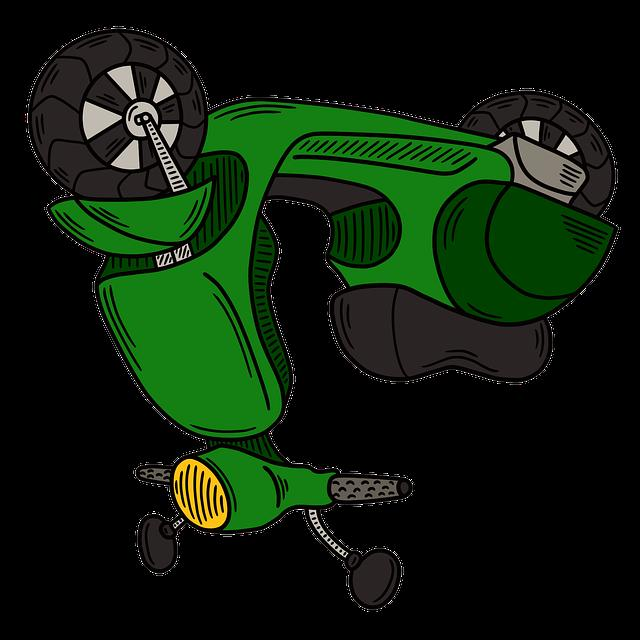Non_Gorille: (41, 0, 636, 595)
